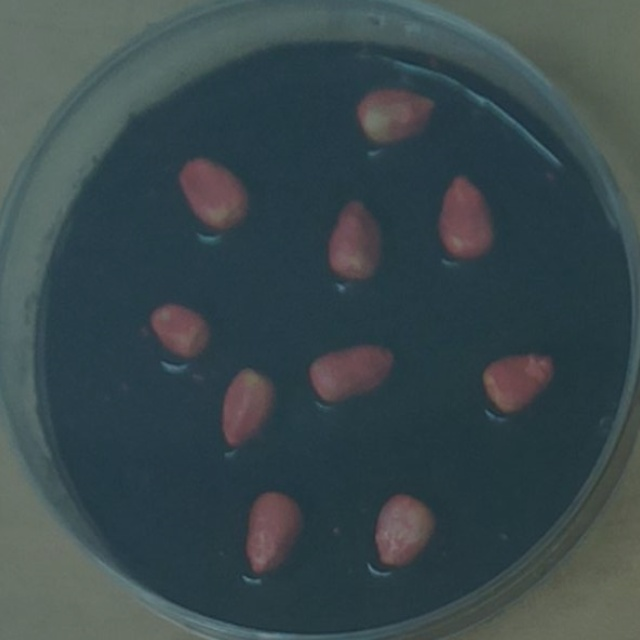Zea mays: (300, 331, 404, 413), (237, 483, 313, 583), (170, 149, 257, 236), (432, 165, 503, 268), (351, 76, 445, 152), (475, 342, 563, 423), (368, 484, 445, 576), (321, 190, 392, 286), (215, 358, 285, 453), (146, 294, 221, 365)
